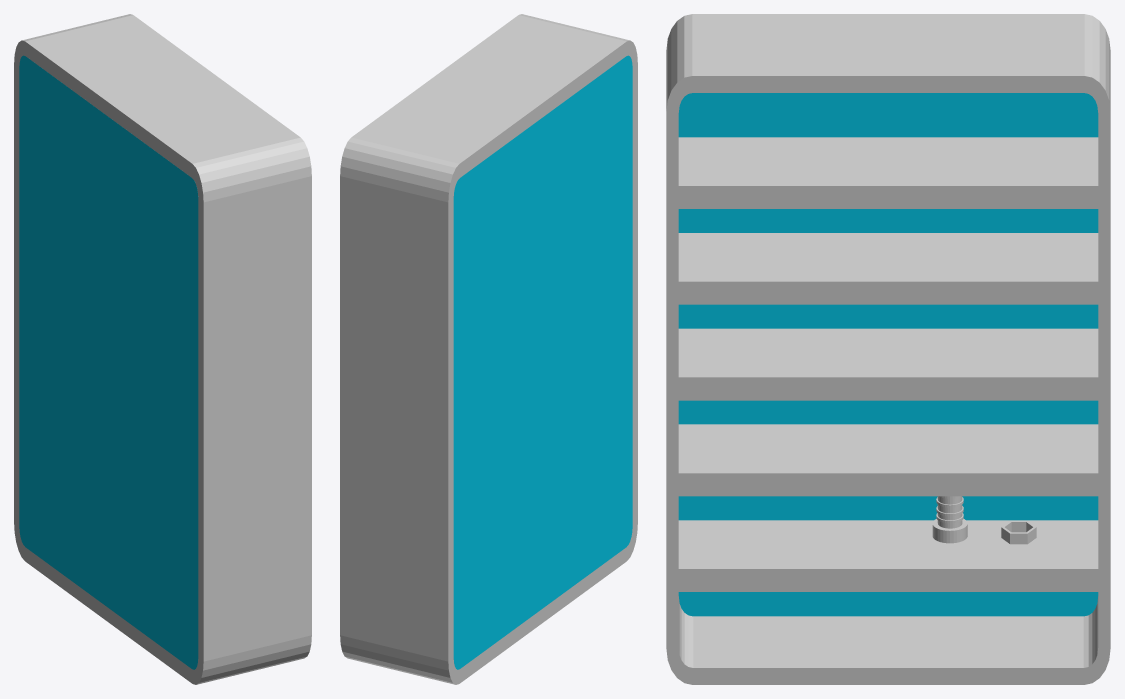
The model's file is Shop display.fbx.
3 renders of one model, left to right at view 1: azimuth 30°, elevation 25°; view 2: azimuth 150°, elevation 25°; view 3: azimuth 270°, elevation 25°, orthographic. The views are drawn at different scales.
Visible parts, largest first — view 1: Cube.006, Cube; view 2: Cube.006, Cube; view 3: Cube, Cube.006, Cube.002, Cube.003, Cube.004, Cube.005, Cube.001, Cylinder.006.
Boxes of the visible parts, bbox=[...] form: Cube.006: bbox=[19, 55, 198, 669]; Cube: bbox=[14, 14, 311, 684]; Cube.006: bbox=[453, 55, 632, 669]; Cube: bbox=[340, 14, 637, 684]; Cube: bbox=[666, 14, 1110, 684]; Cube.006: bbox=[678, 93, 1098, 616]; Cube.002: bbox=[678, 424, 1098, 496]; Cube.003: bbox=[678, 328, 1098, 400]; Cube.004: bbox=[678, 233, 1098, 304]; Cube.005: bbox=[678, 137, 1098, 208]; Cube.001: bbox=[678, 520, 1098, 591]; Cylinder.006: bbox=[1001, 520, 1036, 544].
Bounding box in the file's own units: 83.24 × 382 × 252.
